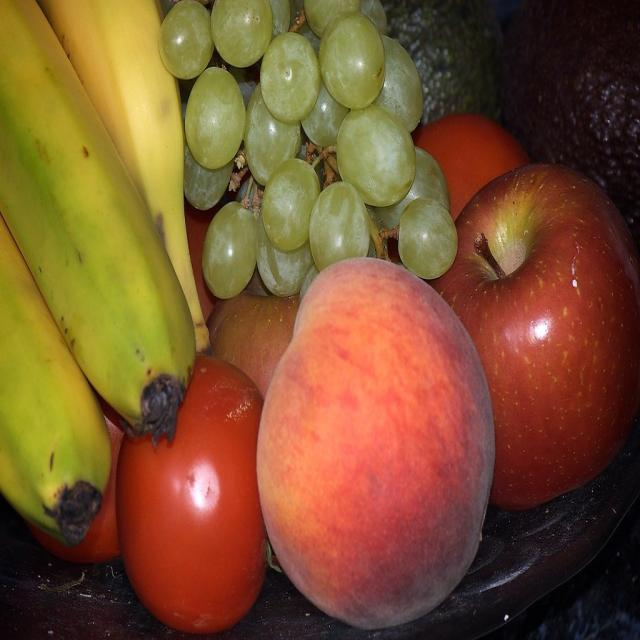Apple: (259, 255, 495, 626), (476, 165, 632, 509), (113, 380, 266, 634)
Banana: (0, 0, 189, 439), (2, 250, 106, 547)
Grape: (336, 113, 420, 207), (185, 64, 248, 164), (202, 204, 257, 300), (309, 184, 373, 265), (258, 39, 323, 118), (260, 159, 314, 246), (400, 202, 458, 277), (381, 32, 426, 116), (216, 0, 273, 63), (158, 3, 210, 61)
Grapes: (161, 0, 465, 293)
Tomato: (113, 379, 258, 640), (434, 105, 522, 207)
